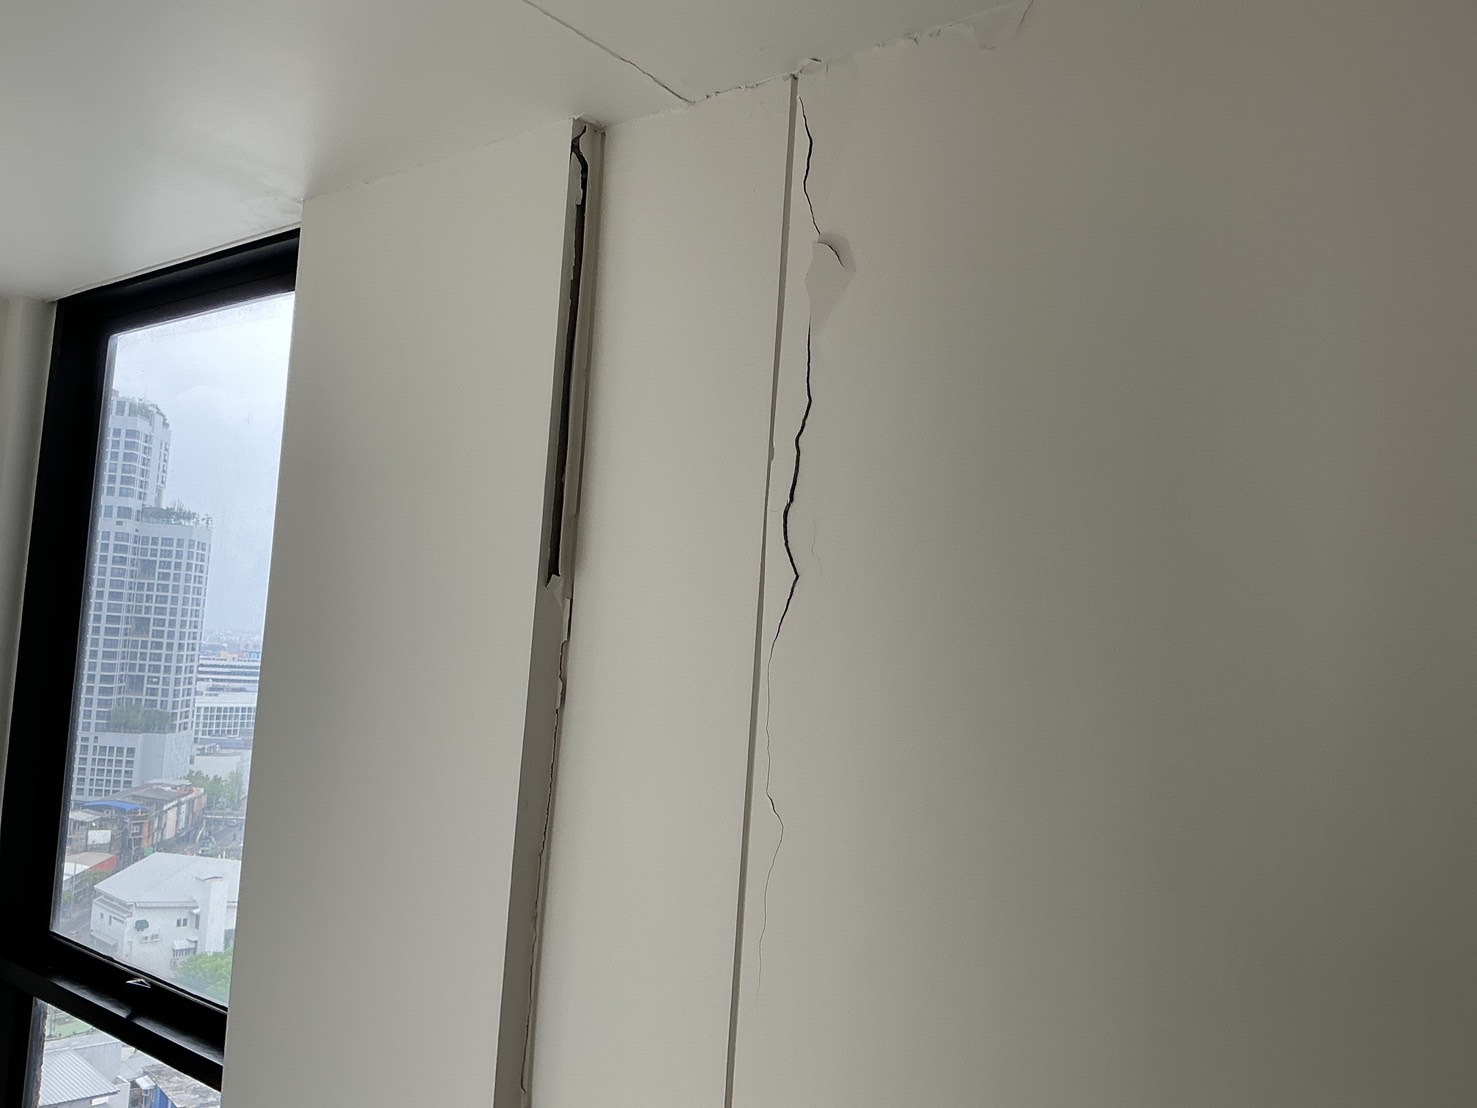Medium: (711, 102, 867, 847)
